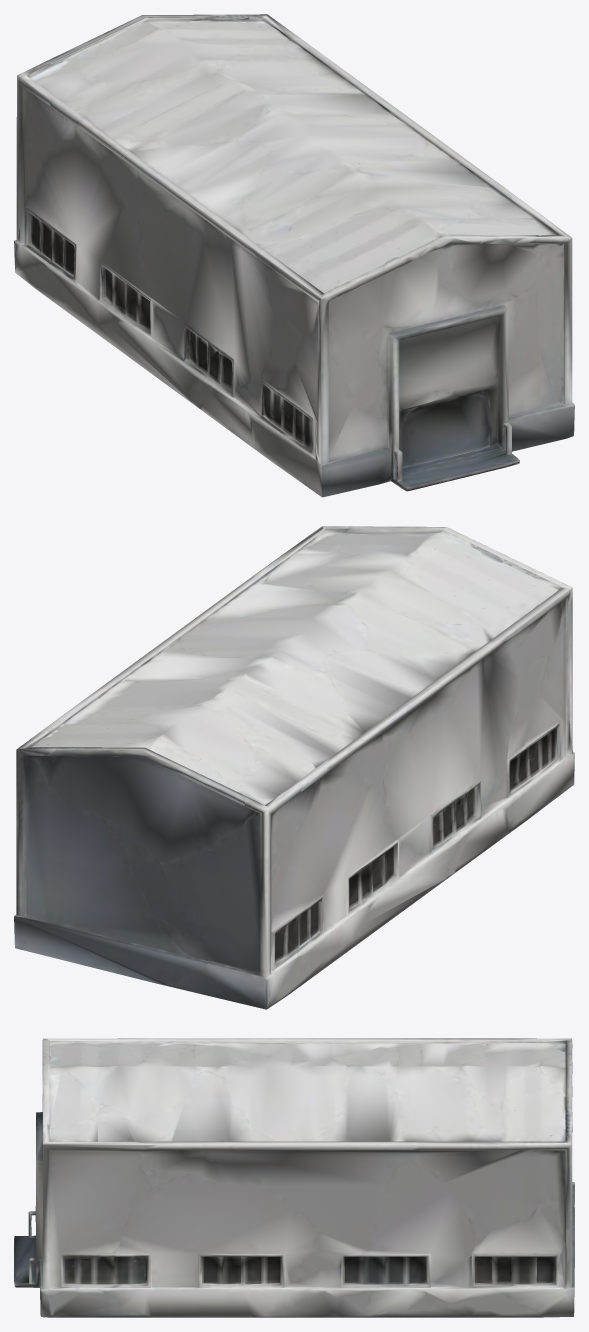
Rendered from warehouse.glb.
3 views of the same model, one above another, from view 1: azimuth 30°, elevation 25°; view 2: azimuth 150°, elevation 25°; view 3: azimuth 270°, elevation 25° (orthographic). The views are drawn at different scales.
Parts seen in each view (by area): view 1: node_0; view 2: node_0; view 3: node_0.
Boxes of the visible parts, x1=… form: node_0: x1=14, y1=14, x2=574, y2=497; node_0: x1=14, y1=526, x2=574, y2=1009; node_0: x1=14, y1=1038, x2=574, y2=1317.
Bounding box in the file's own units: 0.4711 × 0.4036 × 1.04.
1 material, 1 textured.
